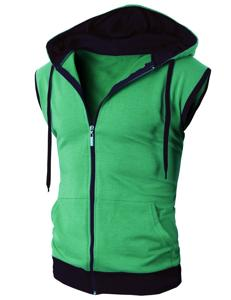C_vest: (24, 3, 218, 300)
